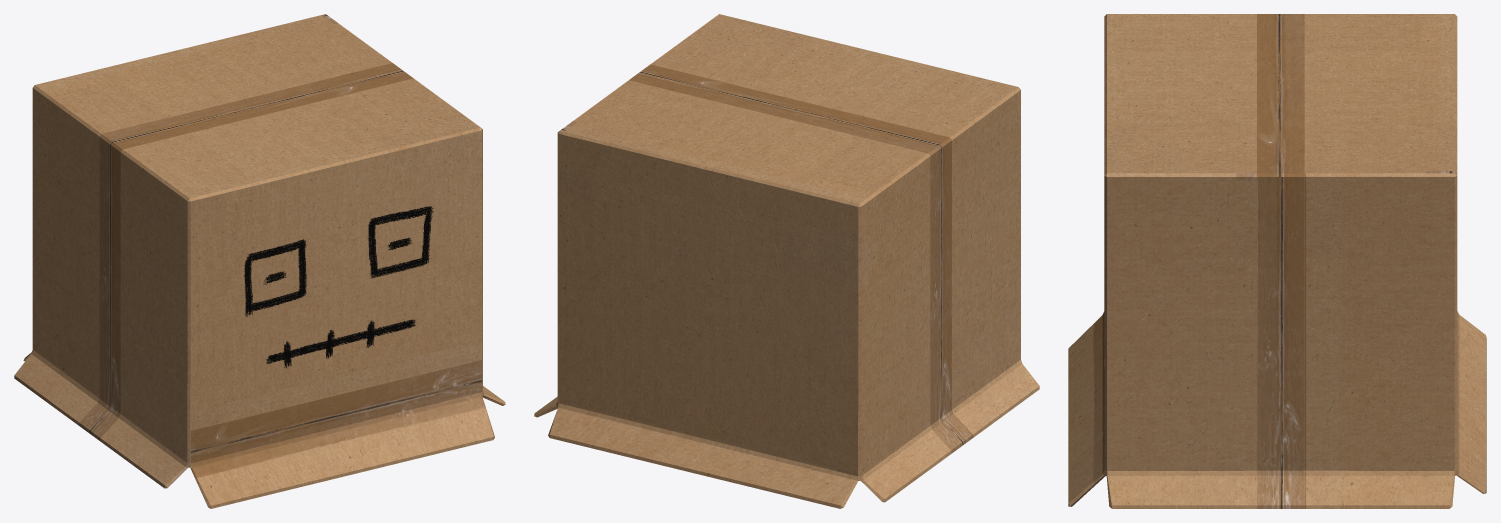
The picture shows the model from 3 angles, left to right: view 1: azimuth 30°, elevation 25°; view 2: azimuth 150°, elevation 25°; view 3: azimuth 270°, elevation 25°; orthographic projection. The views are drawn at different scales.
Parts seen in each view (by area): view 1: Cube; view 2: Cube; view 3: Cube.
Part boxes in pixels (x1,y1,x2,y2): Cube: (14,14,505,508); Cube: (534,14,1039,508); Cube: (1068,14,1486,508).
Bounding box in the file's own units: 1.5 × 1.26 × 1.42.
Materials: 1 (1 with a texture image).
